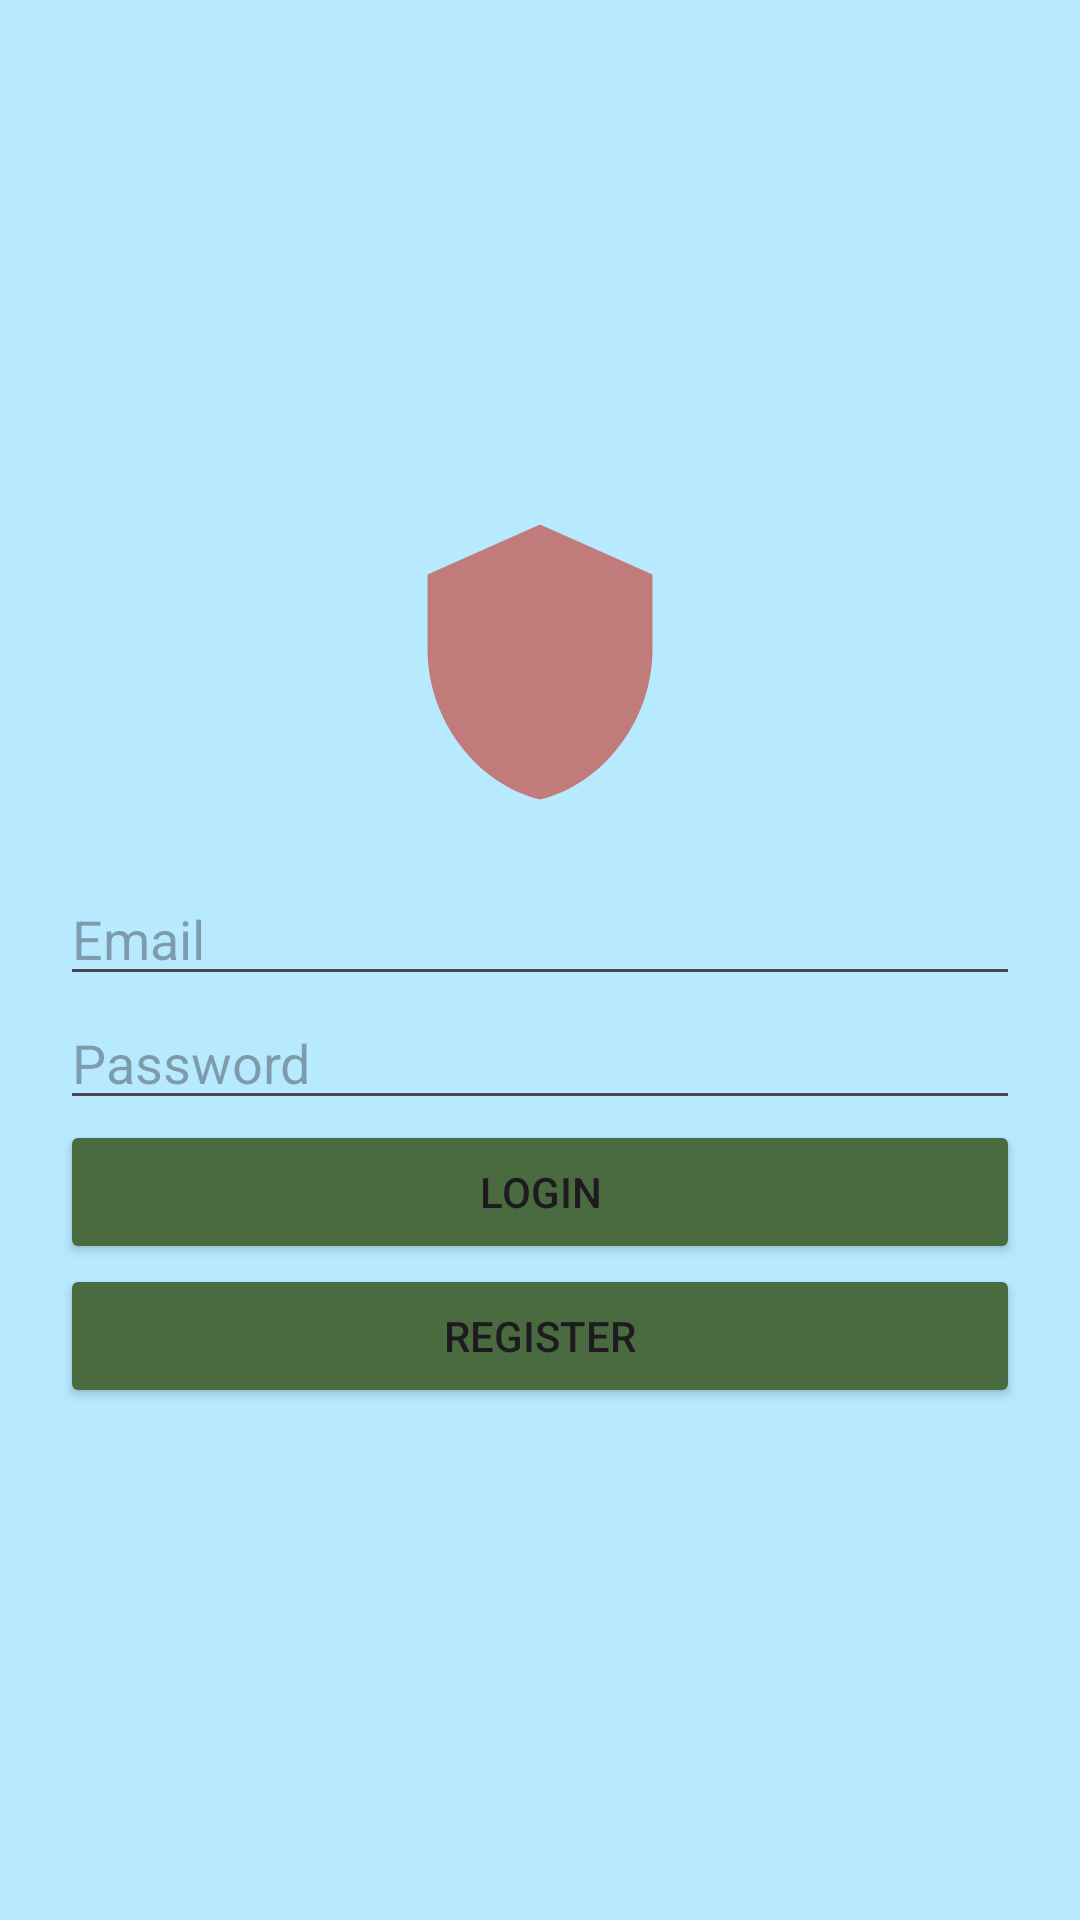

Icon bounding boxes for this 1080×1920 phone screenshot, format (left=x1, top=y1, right=x2, bottom=y2):
crime: (left=427, top=524, right=653, bottom=800)
